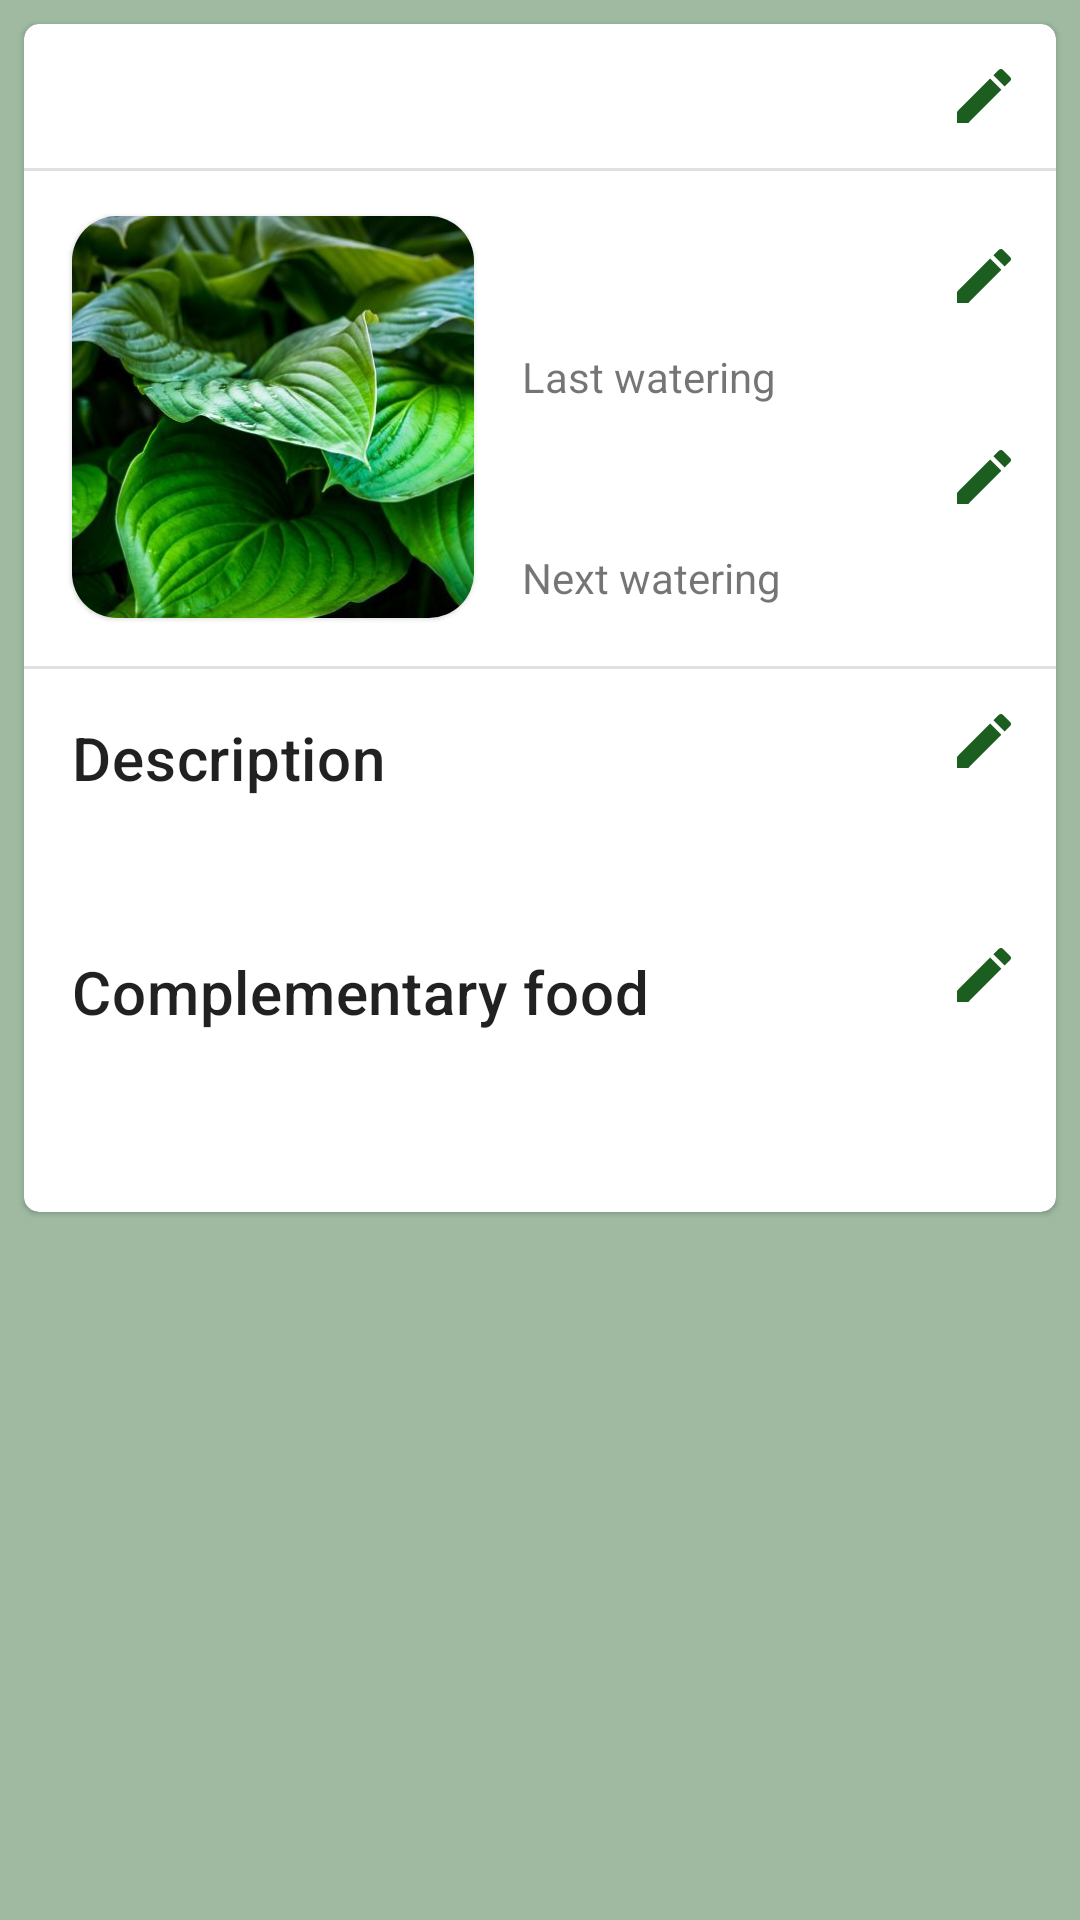

Screen size 1080px×1920px. Icon name, then its box in pixels as (x1, y1, x2, y2):
edit: (957, 69, 1011, 123), (957, 249, 1011, 303), (957, 450, 1011, 504), (957, 714, 1011, 768), (957, 948, 1011, 1002)
